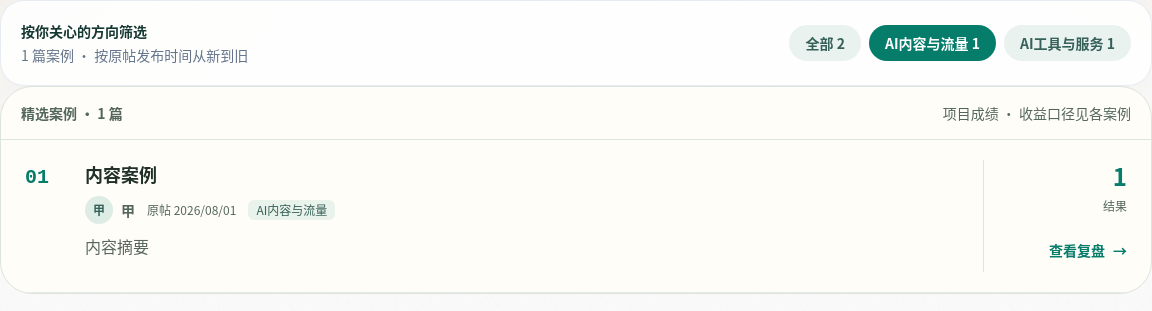
Test case: /ai-money filters › does not render crawlable topic query links
Expected: the link "01 内容案例 甲 甲 原帖 2026/08/01 AI内容与流量 内容摘要 1 结果 查看复盘 →" is shown, [1,140,1151,292]
Expected: the link "服务案例" is not shown
Click the button "AI工具与服务 1": (1068, 43) [1004,25,1131,61]
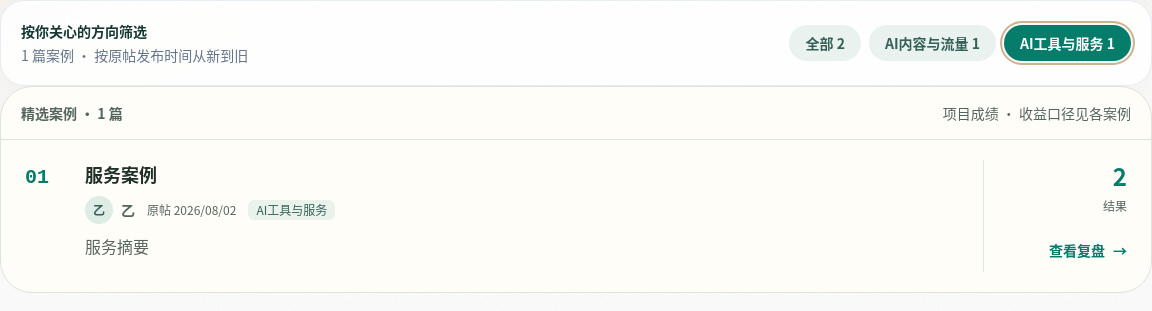
Expected: the link "01 服务案例 乙 乙 原帖 2026/08/02 AI工具与服务 服务摘要 2 结果 查看复盘 →" is shown, [1,140,1151,292]
